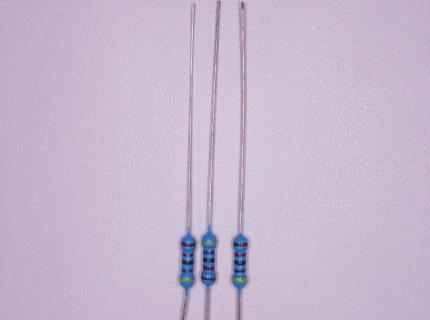Black band: (182, 260, 194, 265), (203, 258, 215, 262), (182, 269, 193, 273)
Brown band: (201, 276, 216, 281), (181, 242, 195, 247), (233, 243, 248, 247), (234, 261, 246, 265)
Red band: (203, 266, 215, 271), (234, 252, 246, 257), (182, 253, 194, 257)
Violet band: (203, 250, 215, 255), (234, 269, 246, 273)
Yellow band: (201, 241, 217, 246), (180, 278, 195, 283), (232, 278, 247, 283)
